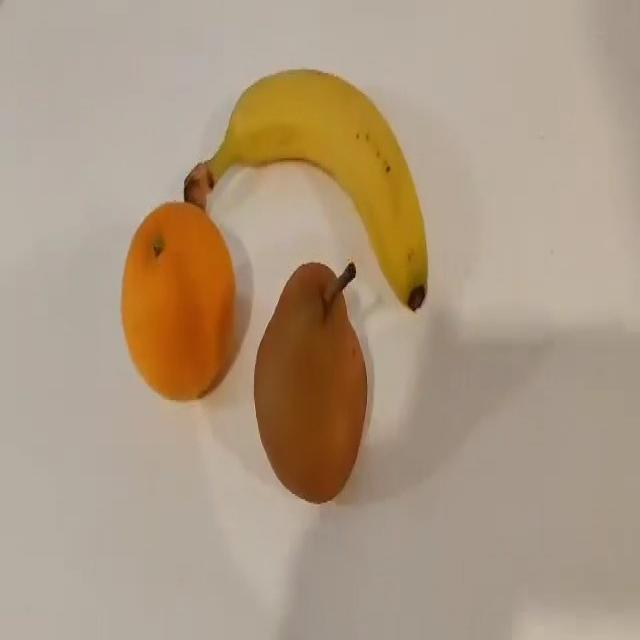Apple: (253, 259, 368, 504)
Banana: (183, 67, 428, 311)
Orange: (120, 199, 236, 401)
